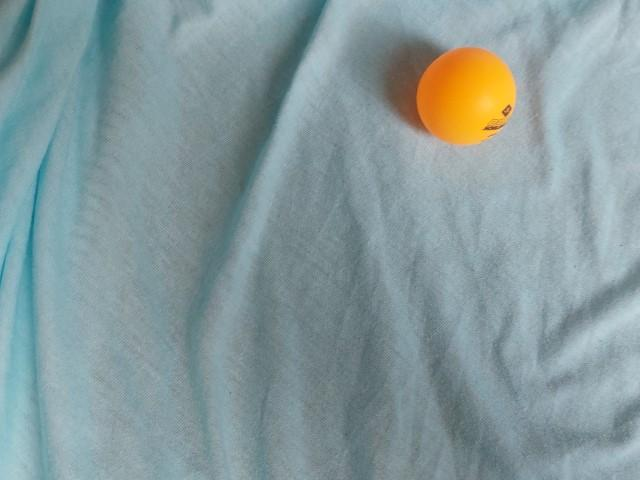oball: (406, 40, 529, 153)
